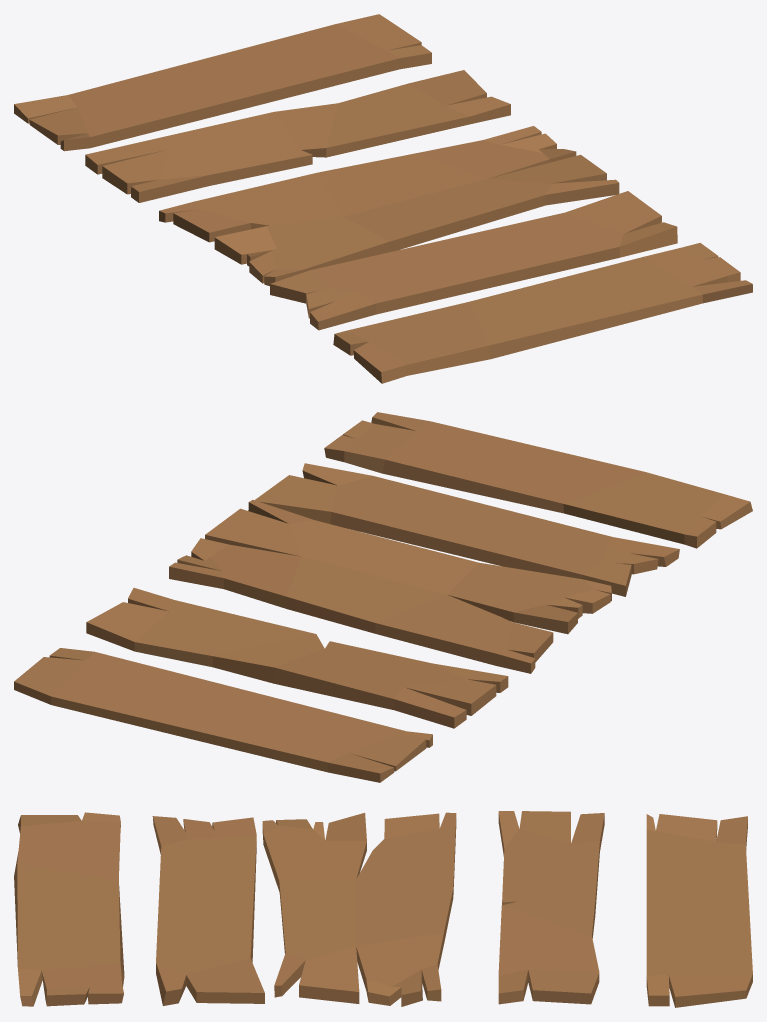
File: planks.fbx
The picture shows the model from 3 angles, top to bottom: view 1: azimuth 30°, elevation 25°; view 2: azimuth 150°, elevation 25°; view 3: azimuth 270°, elevation 25°; orthographic projection.
Parts seen in each view (by area): view 1: Plane.002, Plane, Plane.004, Plane.003, Plane.001; view 2: Plane.002, Plane, Plane.004, Plane.003, Plane.001; view 3: Plane.002, Plane, Plane.004, Plane.003, Plane.001.
Boxes of the visible parts, x1=… form: Plane.002: x1=159, y1=126, x2=619, y2=286; Plane: x1=333, y1=243, x2=752, y2=383; Plane.004: x1=14, y1=14, x2=431, y2=151; Plane.003: x1=85, y1=70, x2=510, y2=202; Plane.001: x1=270, y1=191, x2=677, y2=330; Plane.002: x1=169, y1=500, x2=611, y2=673; Plane: x1=324, y1=412, x2=752, y2=548; Plane.004: x1=14, y1=648, x2=432, y2=782; Plane.003: x1=86, y1=588, x2=508, y2=728; Plane.001: x1=255, y1=463, x2=679, y2=596; Plane.002: x1=262, y1=812, x2=456, y2=1006; Plane: x1=14, y1=812, x2=124, y2=1006; Plane.004: x1=646, y1=814, x2=752, y2=1007; Plane.003: x1=498, y1=811, x2=604, y2=1004; Plane.001: x1=152, y1=816, x2=264, y2=1005.
Bounding box in the file's own units: 116 × 6.43 × 200.
